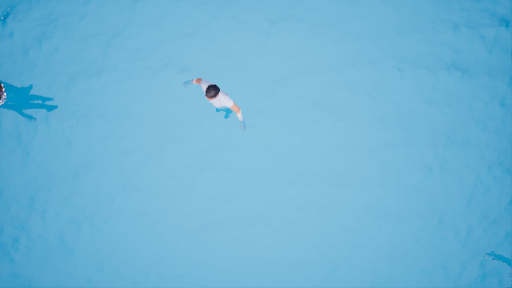person: (183, 78, 251, 134)
